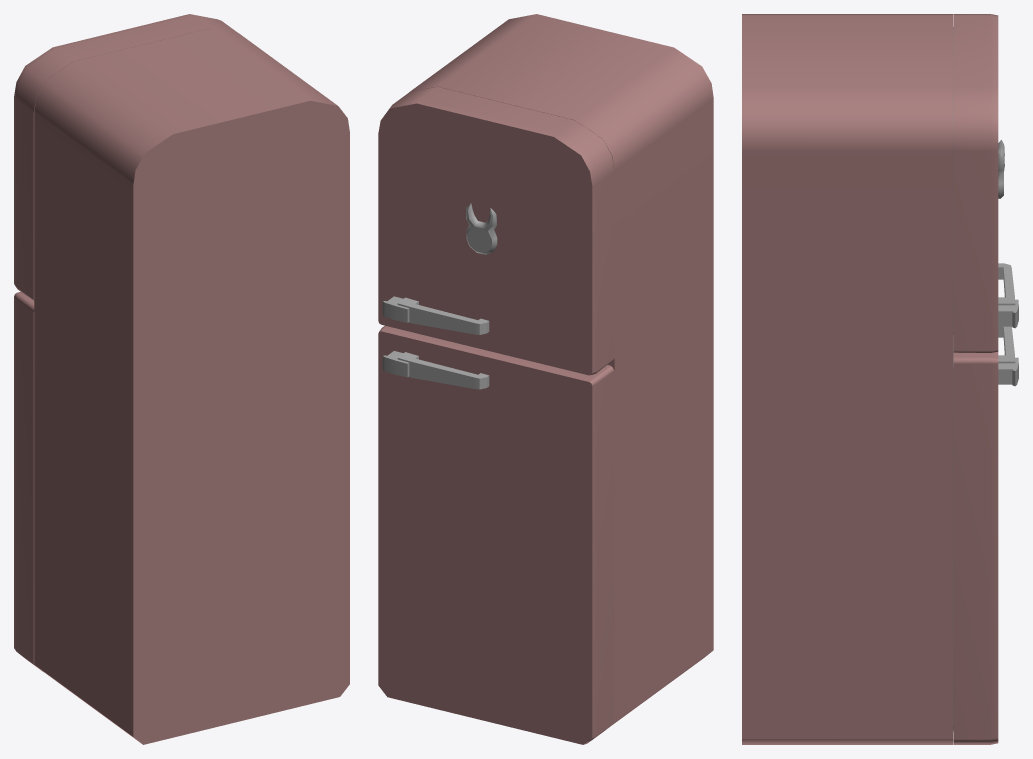
The model's file is KitchenObject_Fridge.fbx.
3 renders of one model, left to right at view 1: azimuth 30°, elevation 25°; view 2: azimuth 150°, elevation 25°; view 3: azimuth 270°, elevation 25°, orthographic. The views are drawn at different scales.
Visible parts, largest first — view 1: KitchenObject_Fridge_Main, KitchenObject_Fridge_UpperDoor, KitchenObject_Fridge_LowerDoor; view 2: KitchenObject_Fridge_LowerDoor, KitchenObject_Fridge_Main, KitchenObject_Fridge_UpperDoor; view 3: KitchenObject_Fridge_Main, KitchenObject_Fridge_LowerDoor, KitchenObject_Fridge_UpperDoor.
Part boxes in pixels (<box>): KitchenObject_Fridge_Main: <box>34,28,349,744</box>; KitchenObject_Fridge_UpperDoor: <box>14,14,238,300</box>; KitchenObject_Fridge_LowerDoor: <box>14,291,42,671</box>; KitchenObject_Fridge_LowerDoor: <box>378,325,614,744</box>; KitchenObject_Fridge_Main: <box>410,14,713,727</box>; KitchenObject_Fridge_UpperDoor: <box>378,87,614,375</box>; KitchenObject_Fridge_Main: <box>742,14,953,744</box>; KitchenObject_Fridge_LowerDoor: <box>953,326,1018,744</box>; KitchenObject_Fridge_UpperDoor: <box>953,14,1018,352</box>.
Bounding box in the file's own units: 1 × 2.66 × 1.04.
